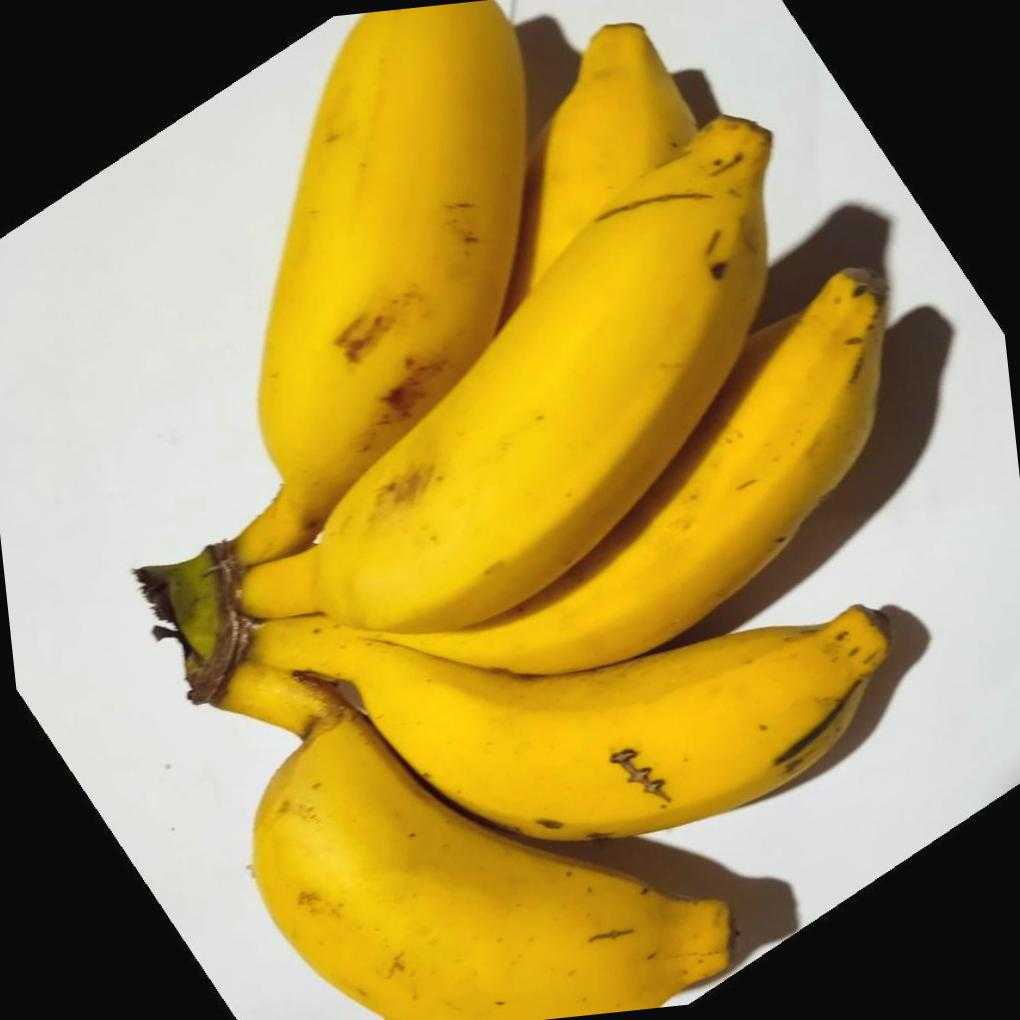Banana Ripe: (141, 0, 978, 1020), (157, 107, 939, 869), (100, 487, 944, 1020)
